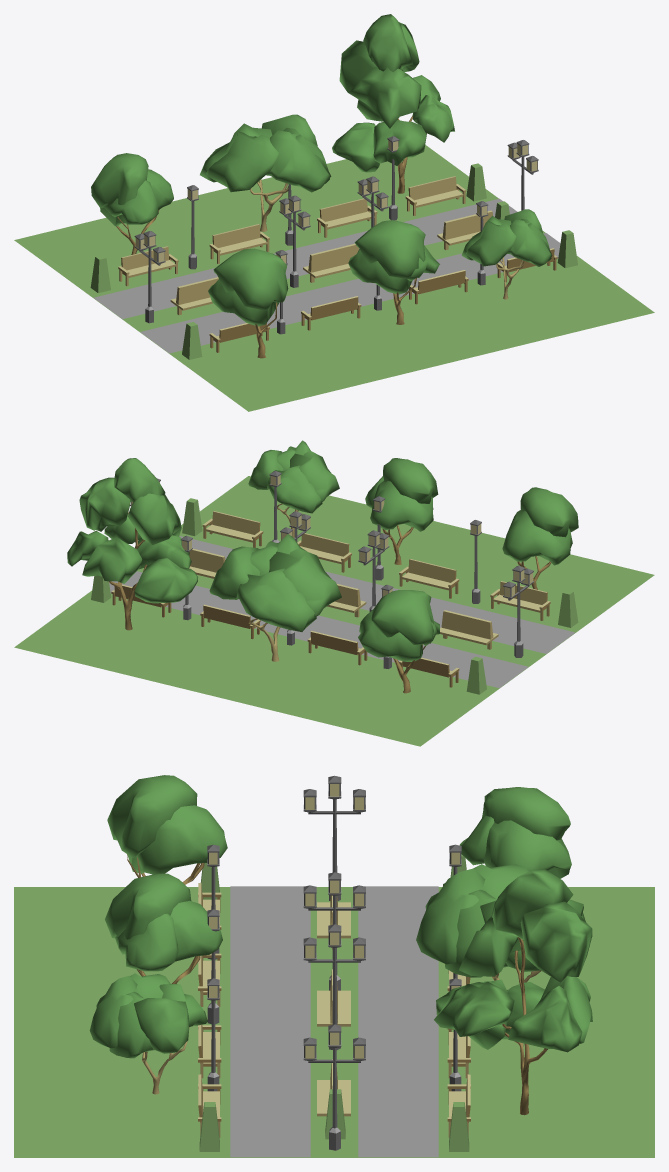
Rendered from park2-transformed.glb.
The picture shows the model from 3 angles, top to bottom: view 1: azimuth 30°, elevation 25°; view 2: azimuth 150°, elevation 25°; view 3: azimuth 270°, elevation 25°; orthographic projection. The views are drawn at different scales.
Parts seen in each view (by area): view 1: park; view 2: park; view 3: park.
Part boxes in pixels (x1=…): park: x1=14, y1=14, x2=654, y2=411; park: x1=14, y1=440, x2=654, y2=746; park: x1=14, y1=775, x2=654, y2=1157.
Size of the model in its own units: 16 by 6.61 by 16.
1 material, 1 textured.
